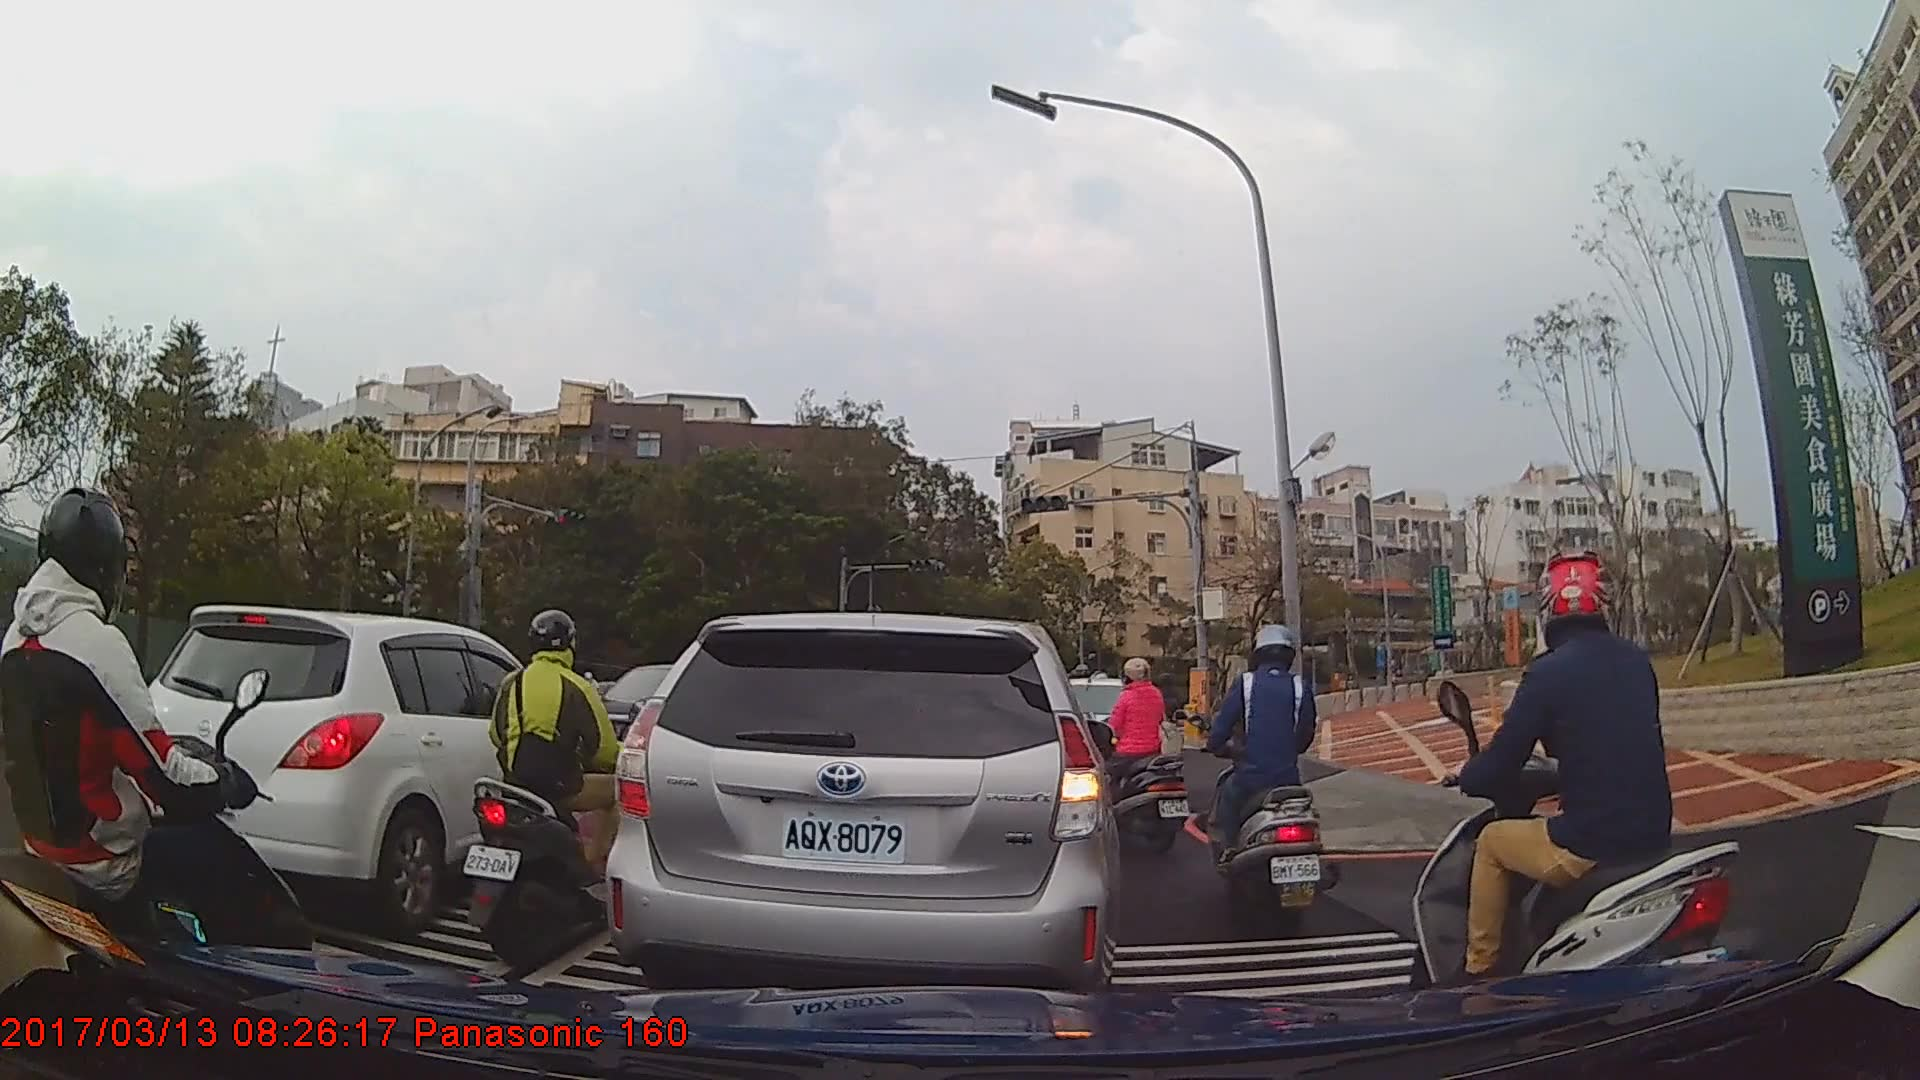rider: (1, 481, 324, 1064), (1403, 550, 1739, 1041), (465, 603, 653, 962), (1206, 616, 1331, 943), (1079, 654, 1187, 861)
vehicle: (603, 611, 1122, 1010), (115, 600, 594, 941)
